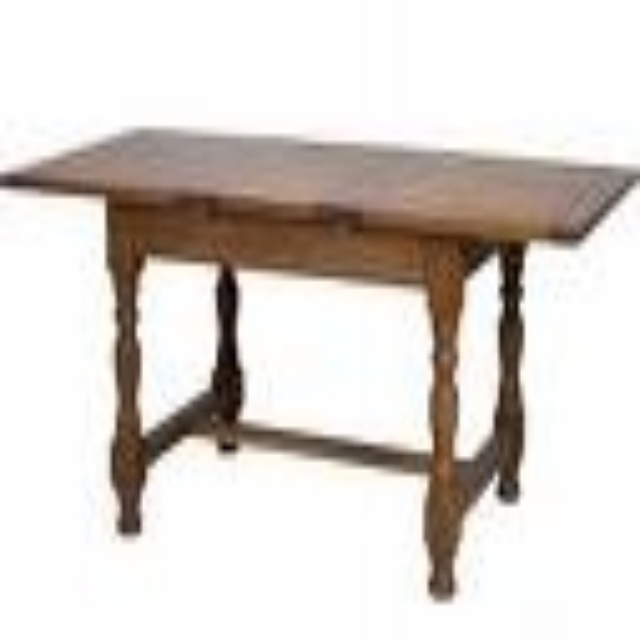obstacle: (0, 128, 635, 595)
